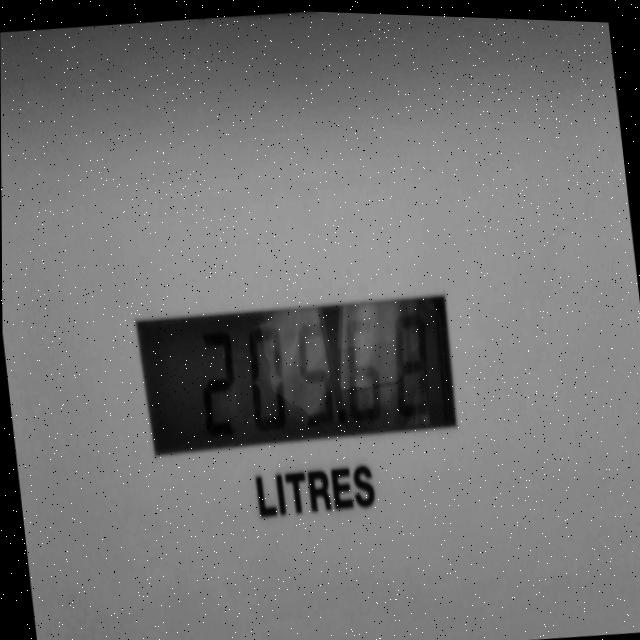.: (333, 398, 347, 421)
0: (240, 326, 287, 426)
2: (195, 322, 243, 441)
5: (295, 318, 338, 427)
6: (336, 312, 385, 424)
8: (386, 309, 434, 425)
